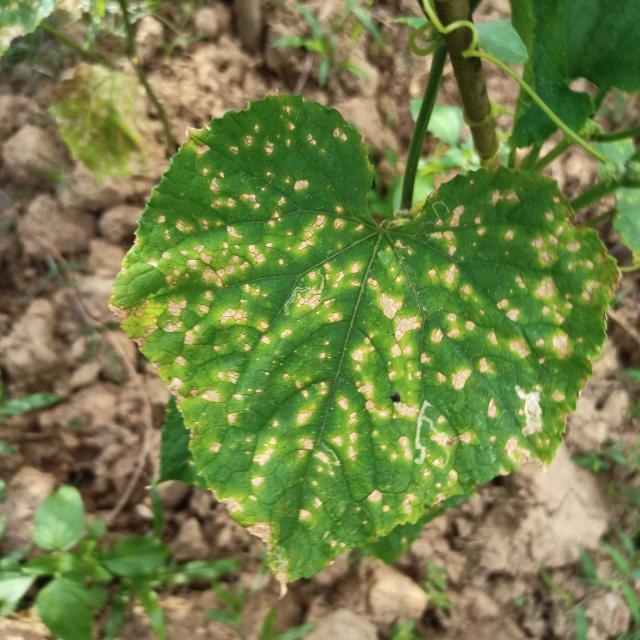disease_cucumber: (134, 124, 578, 538)
